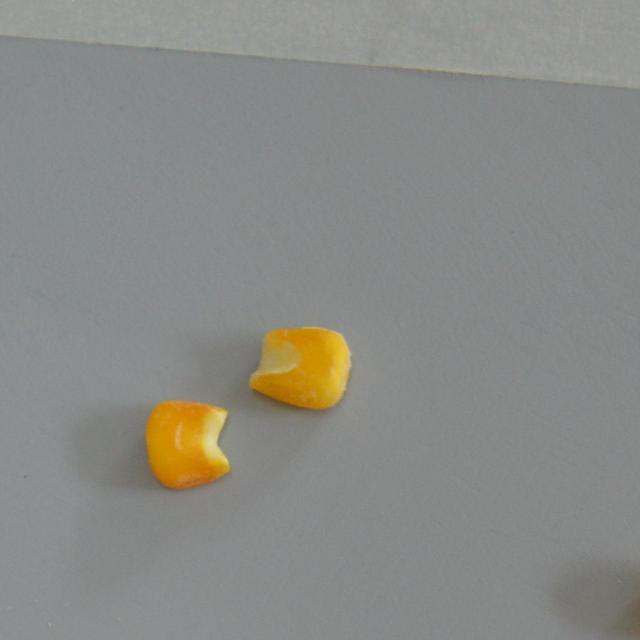pelicula: (248, 325, 350, 409), (143, 400, 230, 490)
